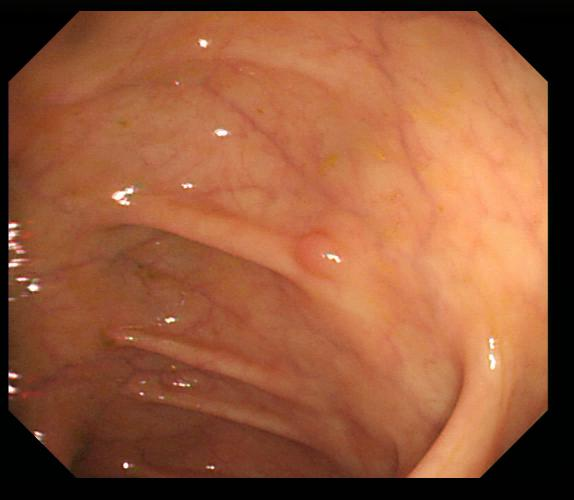polyp: (295, 229, 348, 283)
